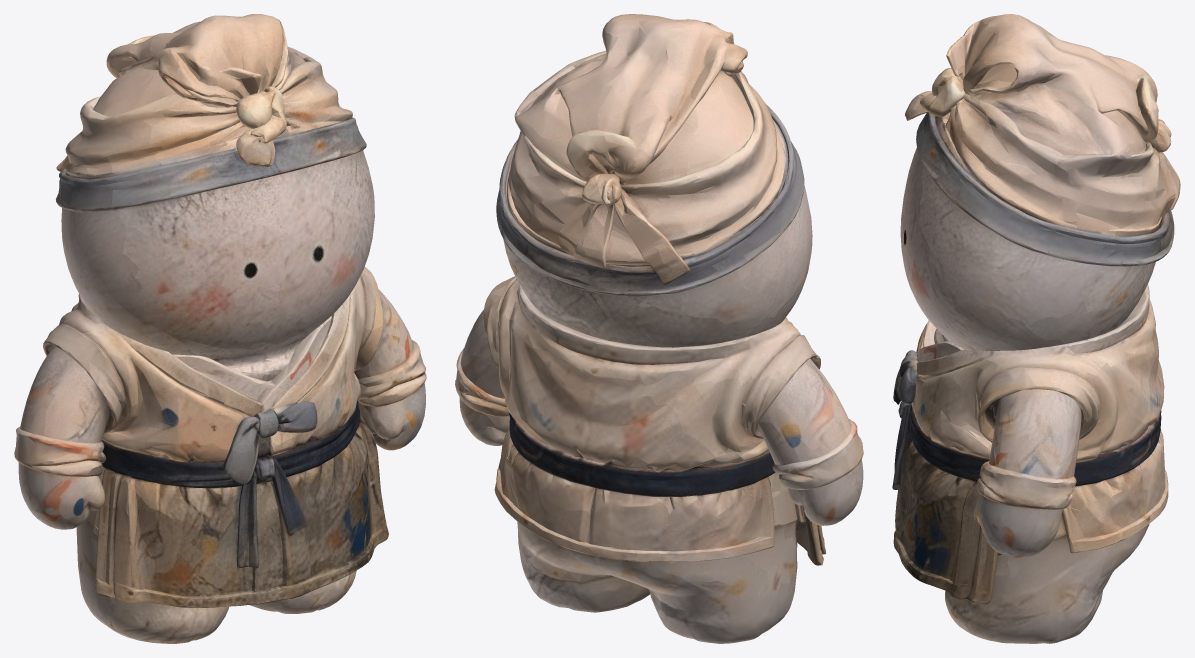
Rendered from npc_painter.glb.
The picture shows the model from 3 angles, left to right: view 1: azimuth 30°, elevation 25°; view 2: azimuth 150°, elevation 25°; view 3: azimuth 270°, elevation 25°; orthographic projection. The views are drawn at different scales.
Size of the model in its own units: 1.34 by 1.9 by 0.8748.
Materials: 1 (1 with a texture image).
